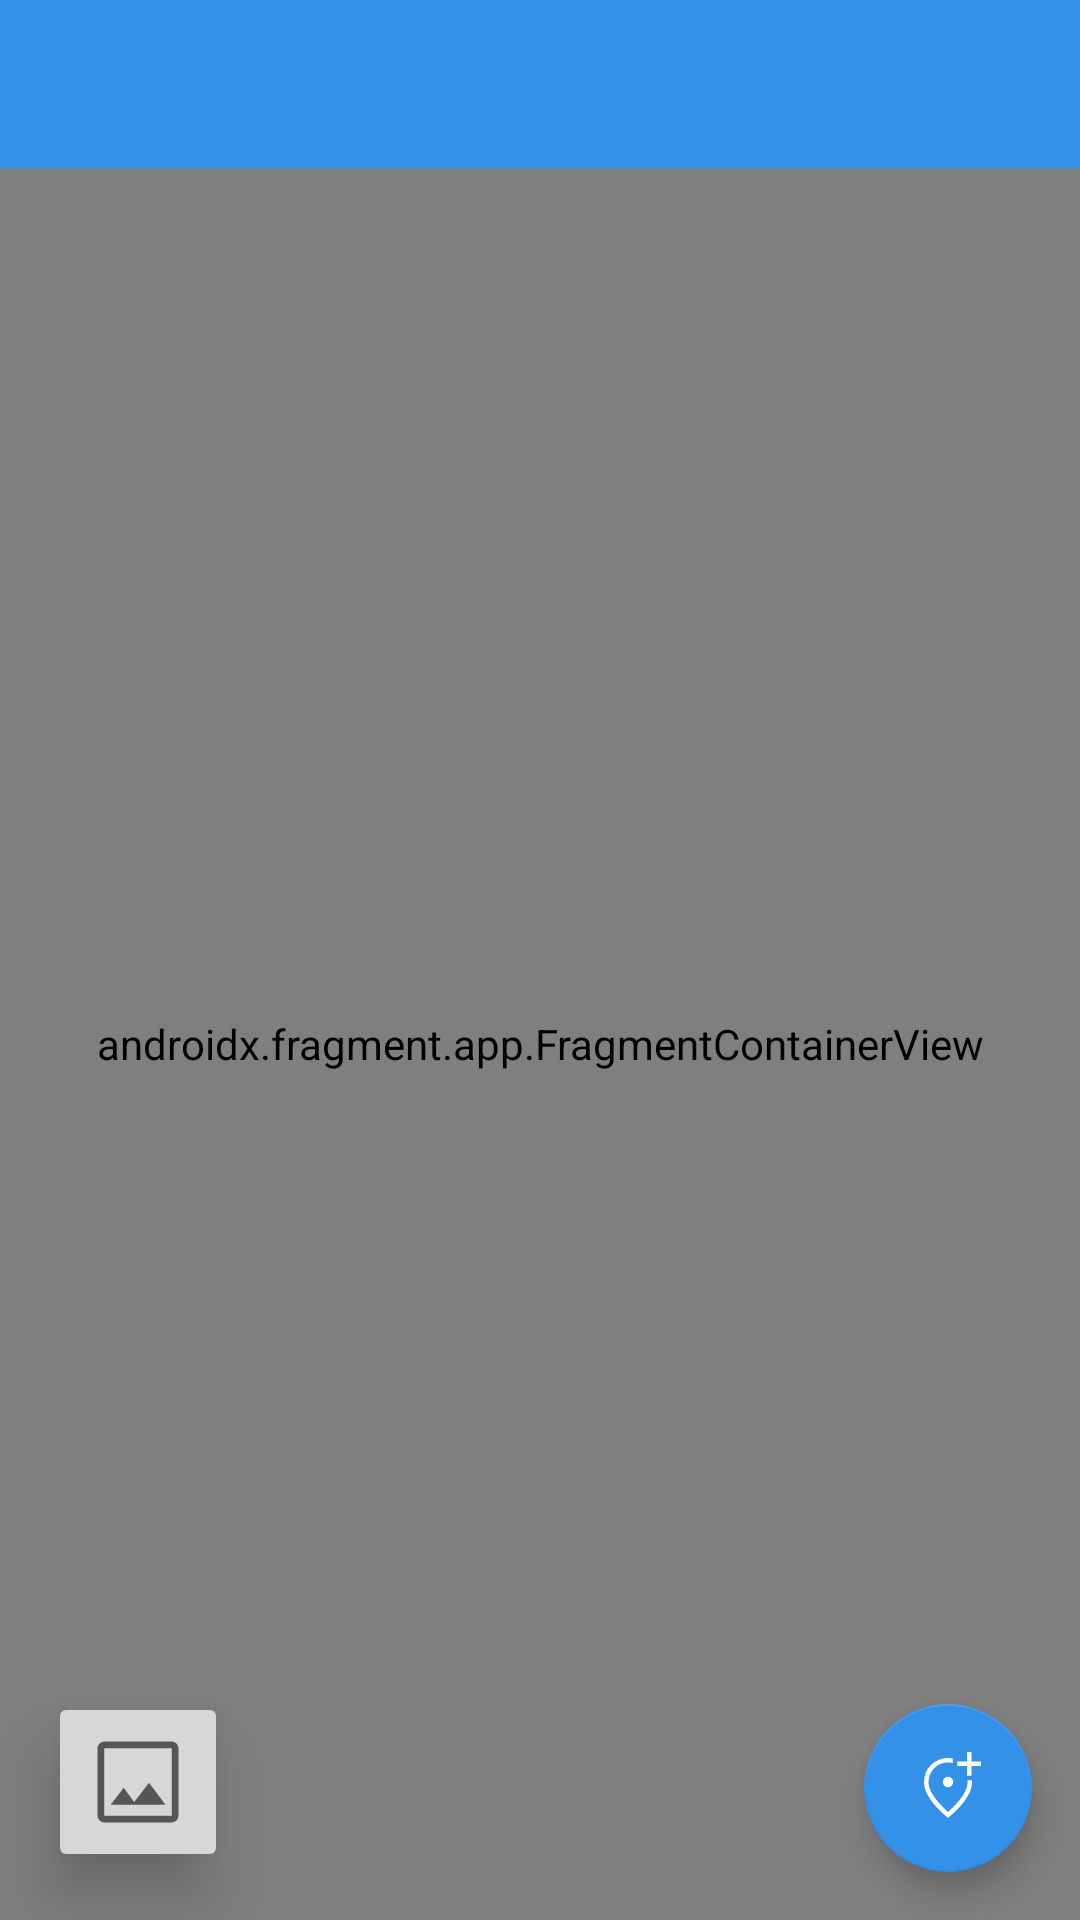

Icons on this 1080w x 1920h Android screen, each with its box as [left=x1, top=y1, right=x2, bottom=y2]:
Floating Action Button: [left=864, top=1704, right=1032, bottom=1872]
